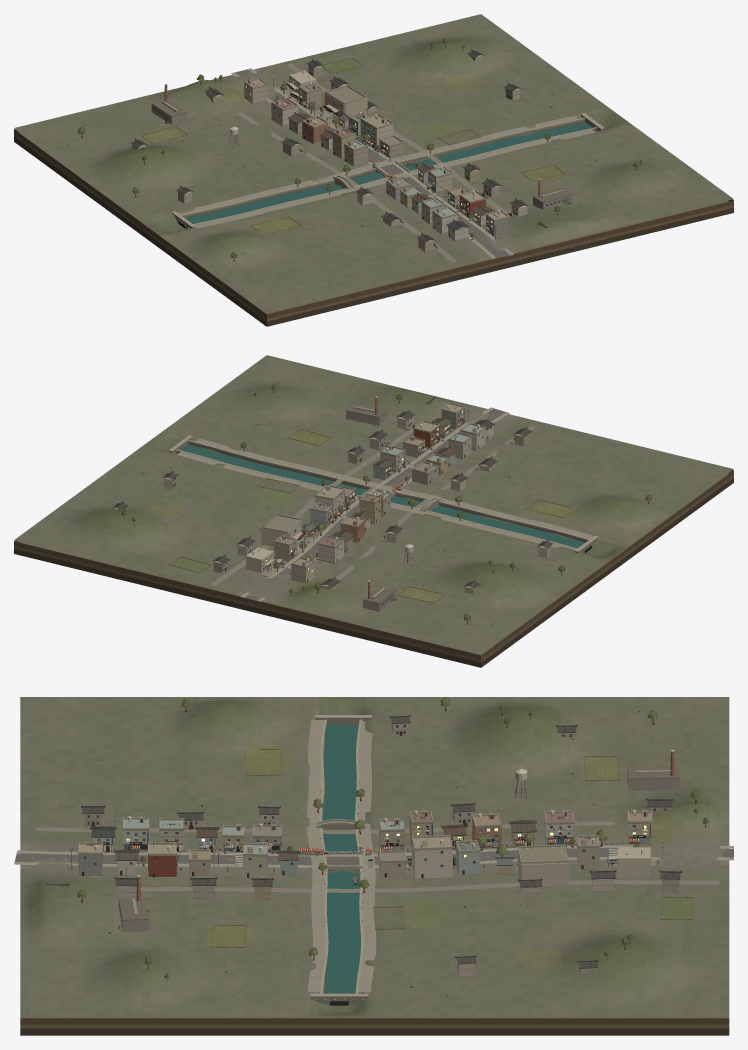
The model's file is town.glb.
The picture shows the model from 3 angles, top to bottom: view 1: azimuth 30°, elevation 25°; view 2: azimuth 150°, elevation 25°; view 3: azimuth 270°, elevation 25°; orthographic projection. The views are drawn at different scales.
Visible parts, largest first — view 1: Town_Matte, Town_Rough, Town_Stone, Water_Canal, Town_Metal; view 2: Town_Matte, Town_Rough, Town_Stone, Water_Canal, Town_Metal; view 3: Town_Matte, Town_Rough, Water_Canal, Town_Stone, Town_Metal, Town_GlassDark.
Part boxes in pixels (left/top/right/bottom): Town_Matte: left=14, top=14, right=733, bottom=326; Town_Rough: left=140, top=57, right=595, bottom=262; Town_Stone: left=151, top=75, right=604, bottom=252; Water_Canal: left=186, top=122, right=596, bottom=223; Town_Metal: left=156, top=70, right=569, bottom=234; Town_Matte: left=14, top=355, right=733, bottom=667; Town_Rough: left=168, top=397, right=593, bottom=603; Town_Stone: left=163, top=396, right=598, bottom=611; Water_Canal: left=177, top=444, right=585, bottom=548; Town_Metal: left=252, top=405, right=488, bottom=604; Town_Matte: left=20, top=697, right=729, bottom=1035; Town_Rough: left=14, top=720, right=733, bottom=992; Water_Canal: left=322, top=724, right=360, bottom=993; Town_Stone: left=71, top=715, right=679, bottom=1004; Town_Metal: left=81, top=768, right=670, bottom=927; Town_GlassDark: left=84, top=725, right=666, bottom=916.
Size of the model in its own units: 320 by 26.13 by 305.
Materials: 25 (7 with a texture image).
